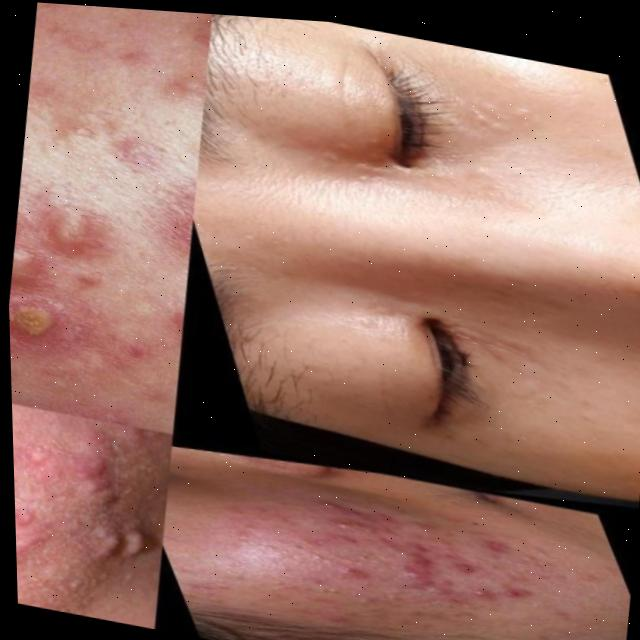Acne: (0, 0, 204, 410), (241, 469, 553, 640), (12, 414, 173, 608)
